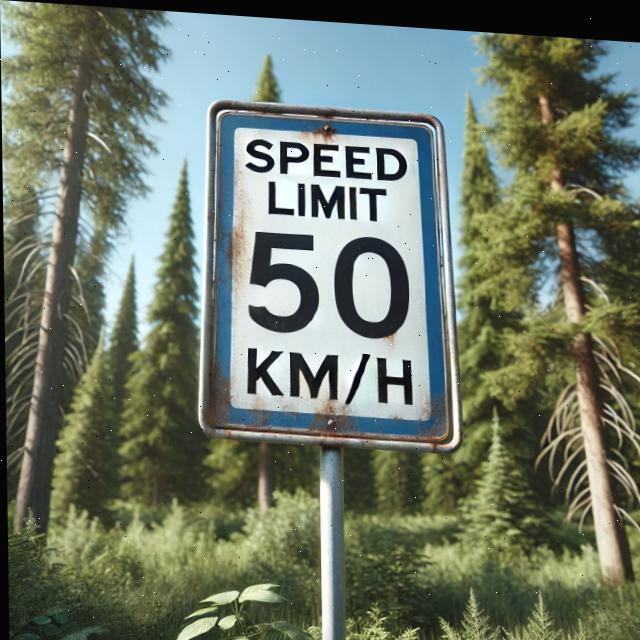Speed limit 50: (195, 208, 448, 349)
